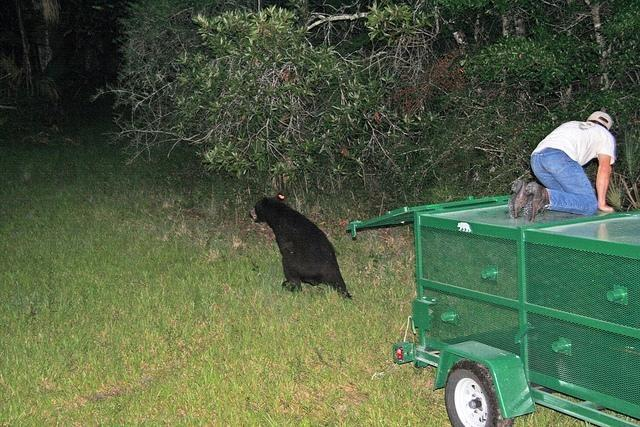truck: (349, 192, 640, 422)
